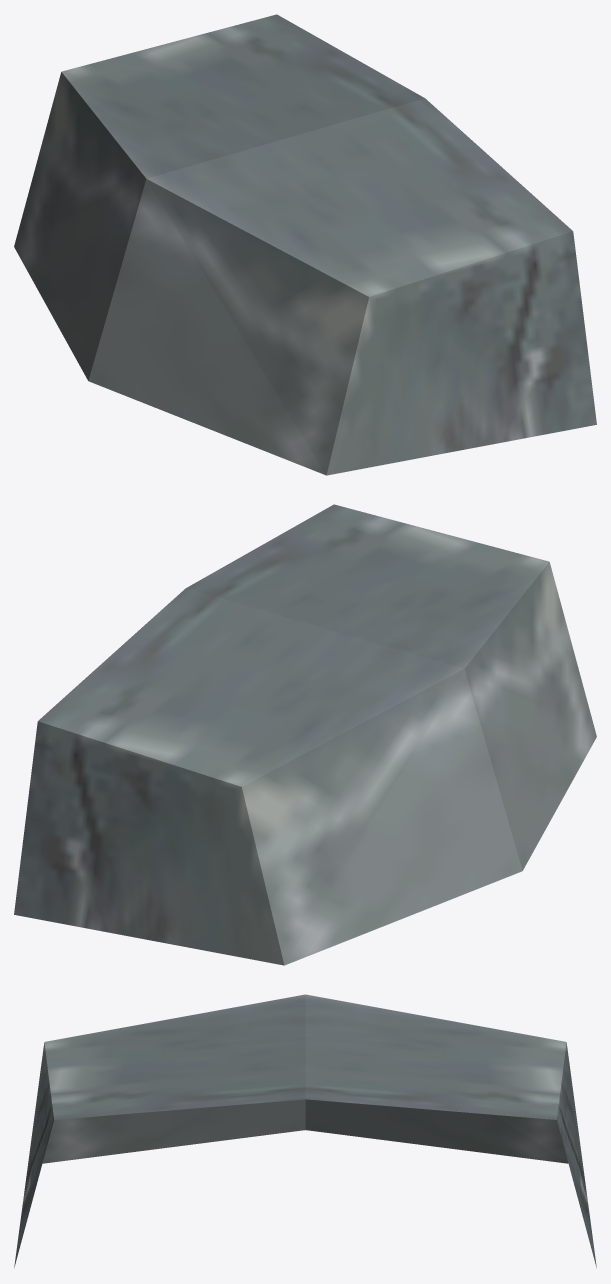
File: stemple_wall_transition_05.fbx
3 renders of one model, top to bottom at view 1: azimuth 30°, elevation 25°; view 2: azimuth 150°, elevation 25°; view 3: azimuth 270°, elevation 25°, orthographic. The views are drawn at different scales.
Visible parts, largest first — view 1: sunken_tileset/sunken_quarter03_mat; view 2: sunken_tileset/sunken_quarter03_mat; view 3: sunken_tileset/sunken_quarter03_mat.
Part boxes in pixels (bbox=[...]): sunken_tileset/sunken_quarter03_mat: bbox=[14, 14, 596, 475]; sunken_tileset/sunken_quarter03_mat: bbox=[14, 504, 596, 965]; sunken_tileset/sunken_quarter03_mat: bbox=[14, 994, 596, 1268].
Size of the model in its own units: 0.3941 by 0.2243 by 0.6962.
